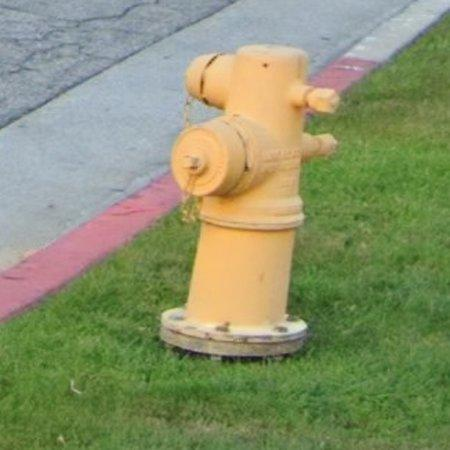a fire hydrant: (163, 45, 340, 356)
